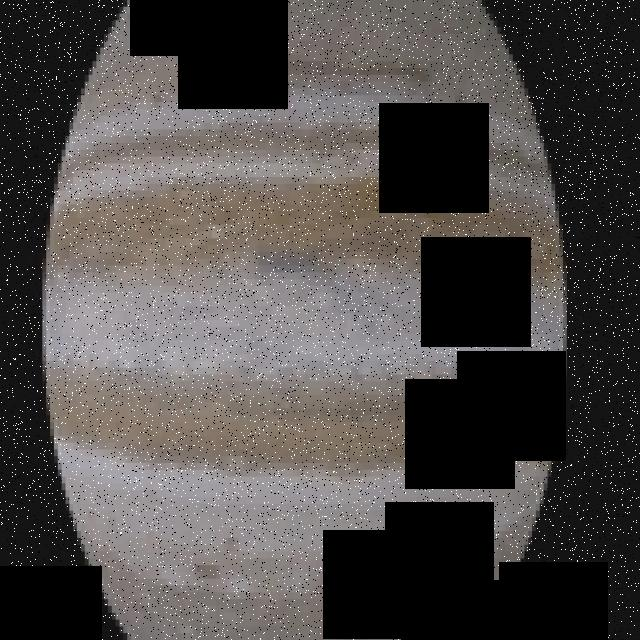Jupiter: (42, 0, 570, 640)
